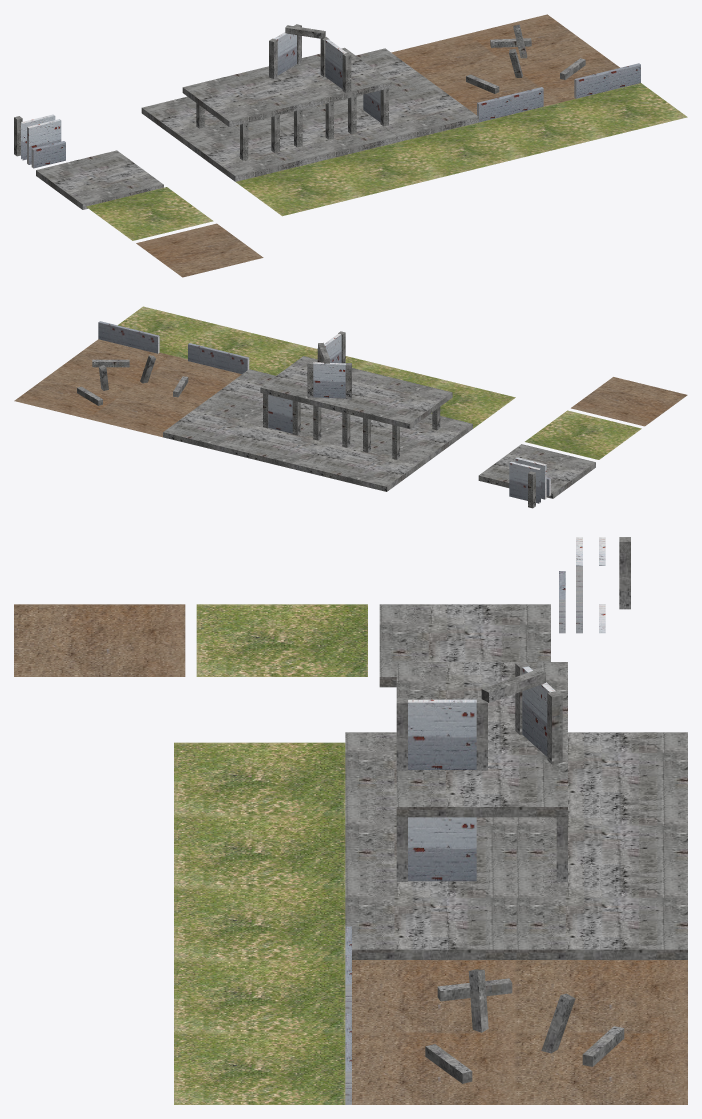
The model's file is abandonedhouse.fbx.
3 views of the same model, one above another, from view 1: azimuth 30°, elevation 25°; view 2: azimuth 150°, elevation 25°; view 3: azimuth 270°, elevation 25° (orthographic). The views are drawn at different scales.
Visible parts, largest first — view 1: Demo, Platform, Green Grass, Ground, Wall, Low Wall, Wall/no edges; view 2: Demo, Ground, Green Grass, Platform, Wall/no edges, Wall; view 3: Demo, Green Grass, Ground, Platform, Pillar.
Boxes of the visible parts, left/top/right/bottom form: Demo: left=141, top=14, right=687, bottom=216; Platform: left=36, top=150, right=163, bottom=209; Green Grass: left=86, top=187, right=213, bottom=240; Ground: left=136, top=223, right=263, bottom=277; Wall: left=27, top=119, right=61, bottom=164; Low Wall: left=31, top=141, right=65, bottom=168; Wall/no edges: left=21, top=114, right=55, bottom=160; Demo: left=14, top=306, right=515, bottom=491; Ground: left=571, top=377, right=687, bottom=426; Green Grass: left=525, top=410, right=641, bottom=459; Platform: left=478, top=444, right=595, bottom=498; Wall/no edges: left=509, top=461, right=540, bottom=503; Wall: left=515, top=457, right=546, bottom=499; Demo: left=174, top=661, right=687, bottom=1104; Green Grass: left=196, top=604, right=367, bottom=676; Ground: left=14, top=604, right=185, bottom=676; Platform: left=379, top=604, right=550, bottom=687; Pillar: left=619, top=537, right=630, bottom=609.
Size of the model in its own units: 20300 by 3489 by 11800.
Materials: 4 (4 with a texture image).
